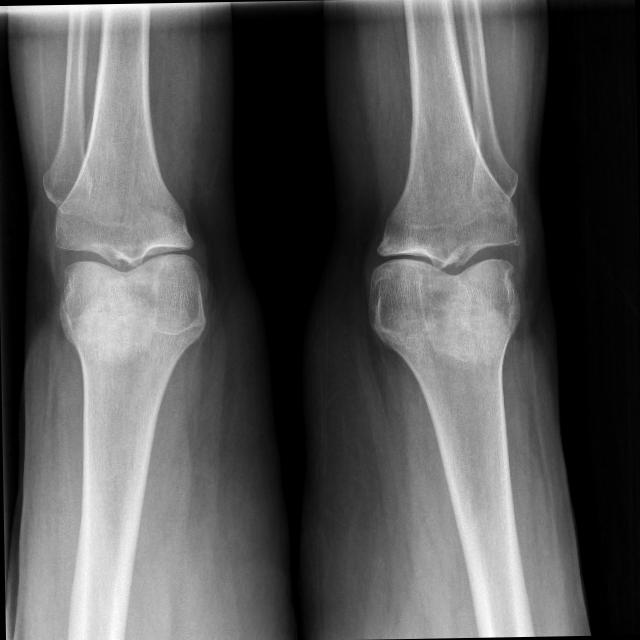Knee: (365, 187, 528, 326), (52, 192, 213, 328)
